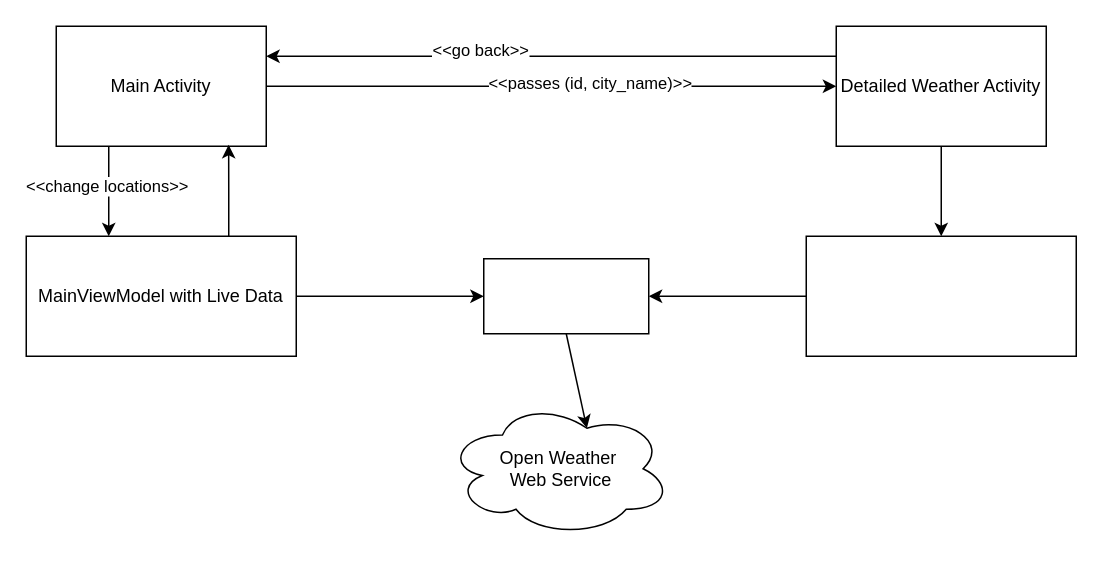
Some shapes in this 1103 by 563 pixel diagram are drawn without their labels. Here are the shapes that lost their labels. From the top down, the centre of each, then its label:
(x=565, y=295): Weather Remote Data Source (web service)
(x=940, y=295): DetailedWeatherModel with Live Data
